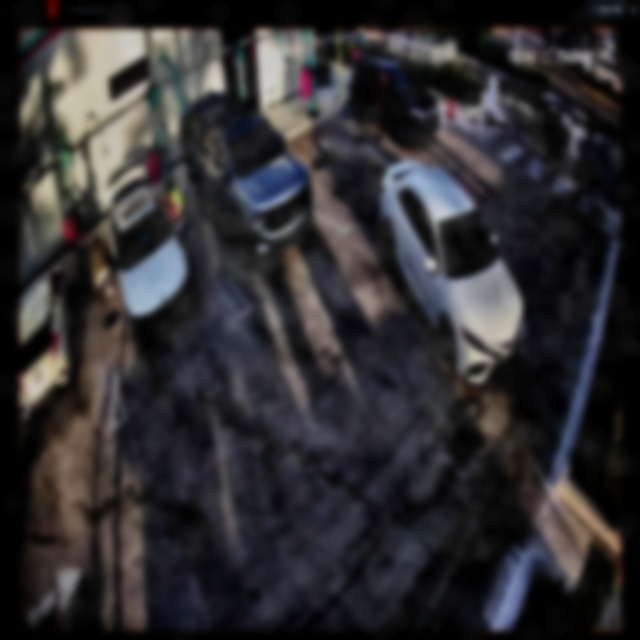Car: (380, 160, 527, 379), (188, 92, 317, 262), (105, 161, 190, 341), (353, 57, 439, 145)
